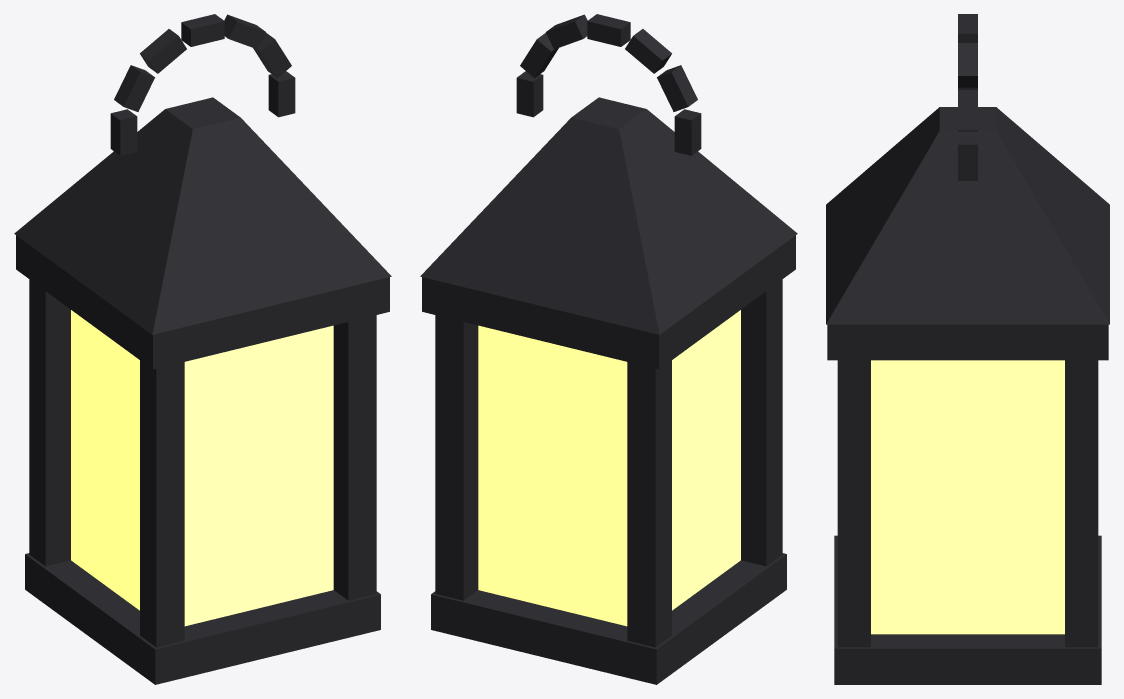
The model's file is SM_Lantern.glb.
3 renders of one model, left to right at view 1: azimuth 30°, elevation 25°; view 2: azimuth 150°, elevation 25°; view 3: azimuth 270°, elevation 25°, orthographic. The views are drawn at different scales.
Parts seen in each view (by area): view 1: SM_Lantern; view 2: SM_Lantern; view 3: SM_Lantern.
Boxes of the visible parts, x1,y1,x2,y2 form: SM_Lantern: [14, 14, 391, 684]; SM_Lantern: [420, 14, 797, 684]; SM_Lantern: [826, 14, 1109, 684].
Size of the model in its own units: 0.2121 by 0.4975 by 0.2121.
Materials: 1 (1 with a texture image).
